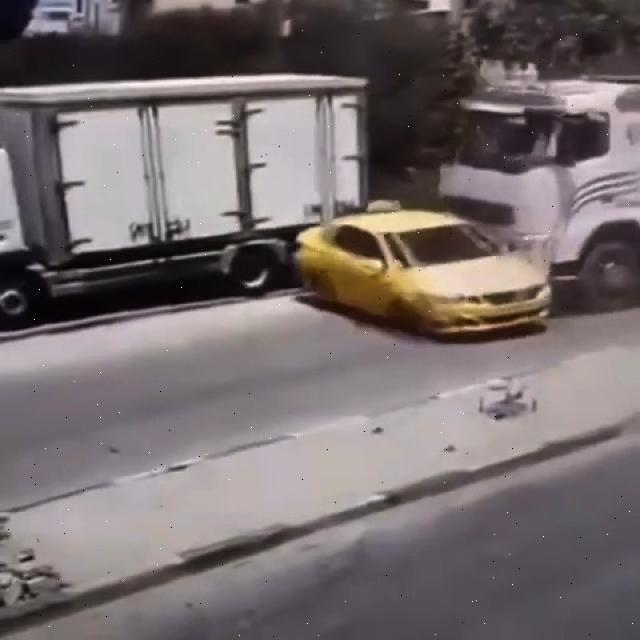accident: (287, 99, 638, 353)
